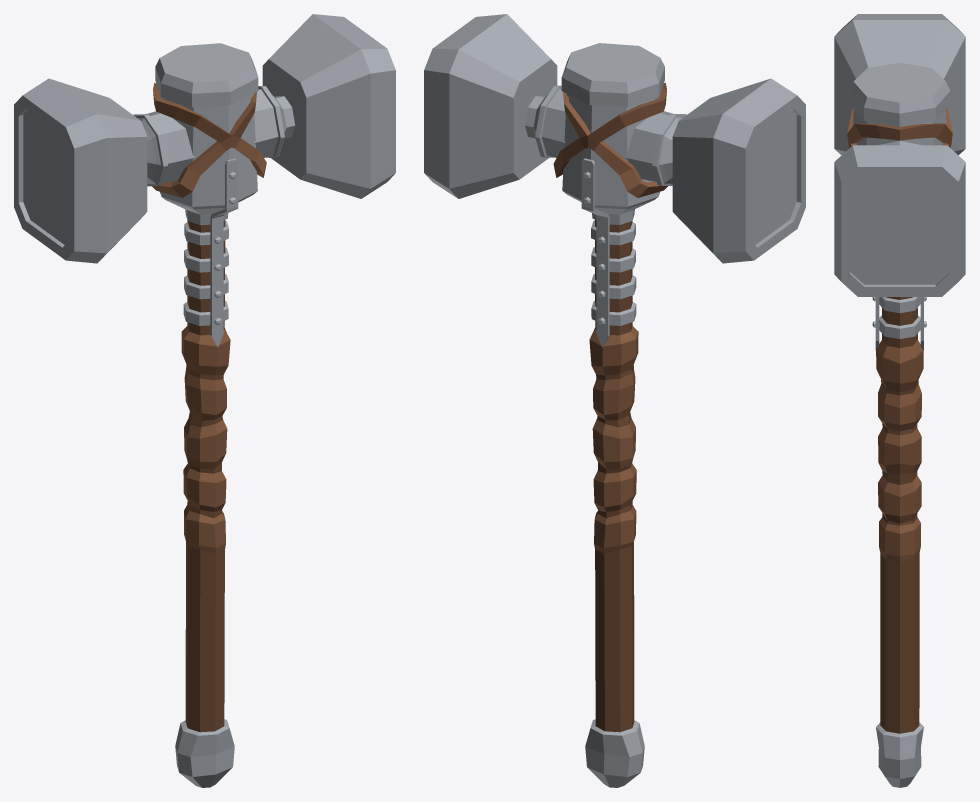
Rendered from SM_Hammer_Double_02.fbx.
The picture shows the model from 3 angles, left to right: view 1: azimuth 30°, elevation 25°; view 2: azimuth 150°, elevation 25°; view 3: azimuth 270°, elevation 25°; orthographic projection. The views are drawn at different scales.
Visible parts, largest first — view 1: SM_Hammer_Double_02; view 2: SM_Hammer_Double_02; view 3: SM_Hammer_Double_02.
Boxes of the visible parts, x1,y1,x2,y2 form: SM_Hammer_Double_02: [14, 14, 395, 787]; SM_Hammer_Double_02: [424, 14, 805, 787]; SM_Hammer_Double_02: [834, 14, 965, 787].
Size of the model in its own units: 118 by 253 by 42.91.
